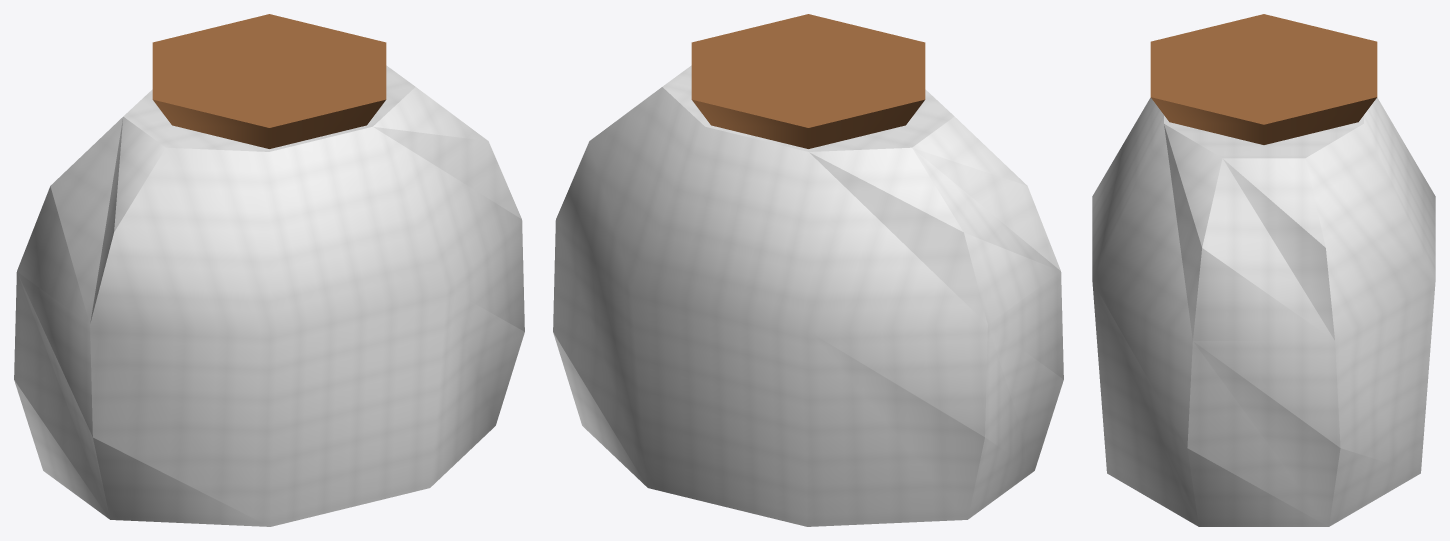
File: meal_kibble.obj
3 views of the same model, side by side, from view 1: azimuth 30°, elevation 25°; view 2: azimuth 150°, elevation 25°; view 3: azimuth 270°, elevation 25° (orthographic). The views are drawn at different scales.
Parts seen in each view (by area): view 1: sack_body, part_034_food_stew; view 2: sack_body, part_034_food_stew; view 3: sack_body, part_034_food_stew.
Part boxes in pixels (bbox=[...]): sack_body: bbox=[14, 65, 524, 526]; part_034_food_stew: bbox=[152, 14, 386, 148]; sack_body: bbox=[553, 65, 1063, 526]; part_034_food_stew: bbox=[691, 14, 925, 148]; sack_body: bbox=[1092, 97, 1435, 526]; part_034_food_stew: bbox=[1150, 14, 1377, 144].
Size of the model in its own units: 0.4434 by 0.37 by 0.3142.
